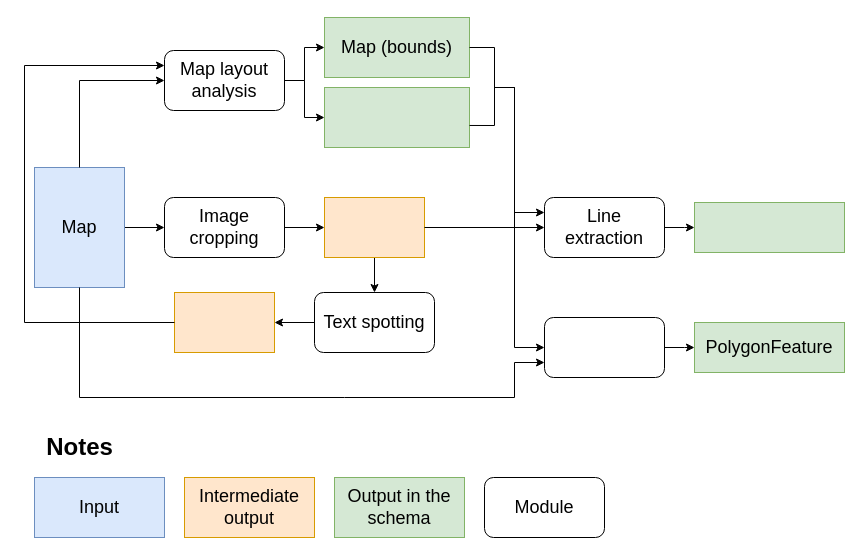
This 862x555 diagram has some shape labels left out. The shapes that lost their labels are listed below. From the top down, each one's box as (x1, y1, x2, y2) in pixels, then its label:
(324, 86, 470, 148): PageExtraction
(324, 196, 424, 258): Patches
(694, 202, 844, 252): LineFeature
(174, 292, 274, 352): Text map
(544, 316, 664, 378): Polygon extraction
